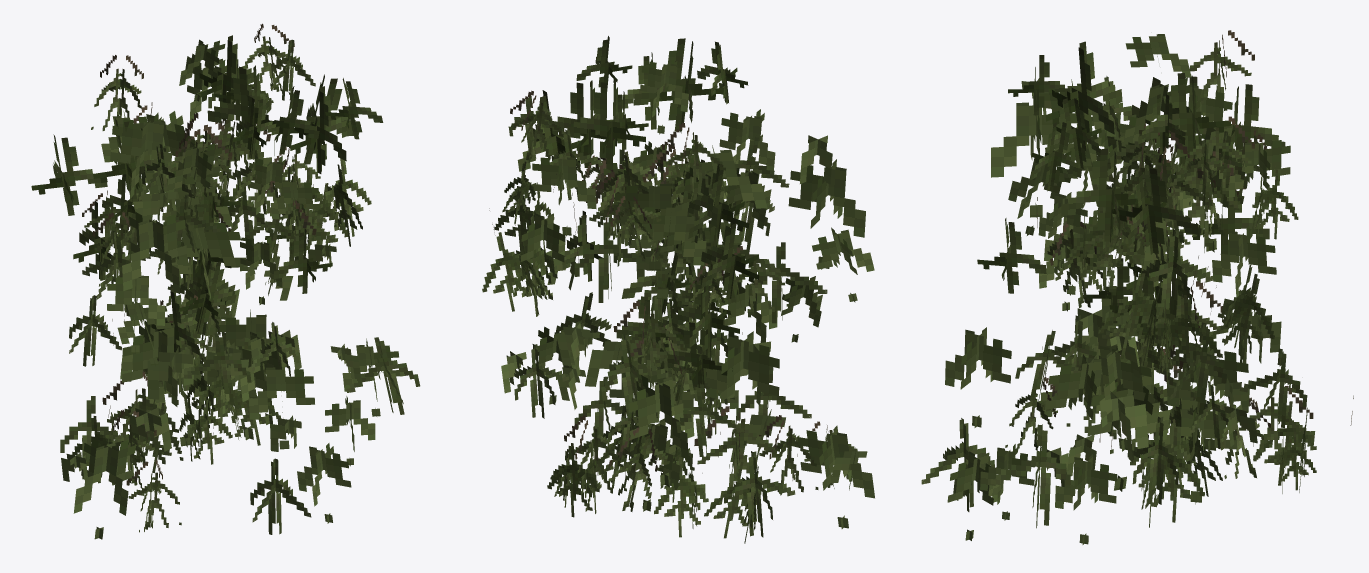
The model's file is hedge-shrub-lod2.glb.
The picture shows the model from 3 angles, left to right: view 1: azimuth 30°, elevation 25°; view 2: azimuth 150°, elevation 25°; view 3: azimuth 270°, elevation 25°; orthographic projection. The views are drawn at different scales.
Parts seen in each view (by area): view 1: impostor; view 2: impostor; view 3: impostor.
Boxes of the visible parts, x1,y1,x2,y2 form: impostor: (31, 23, 420, 539); impostor: (482, 36, 874, 543); impostor: (921, 30, 1353, 544).
Size of the model in its own units: 1.02 by 1.18 by 0.9479.
1 material, 1 textured.
